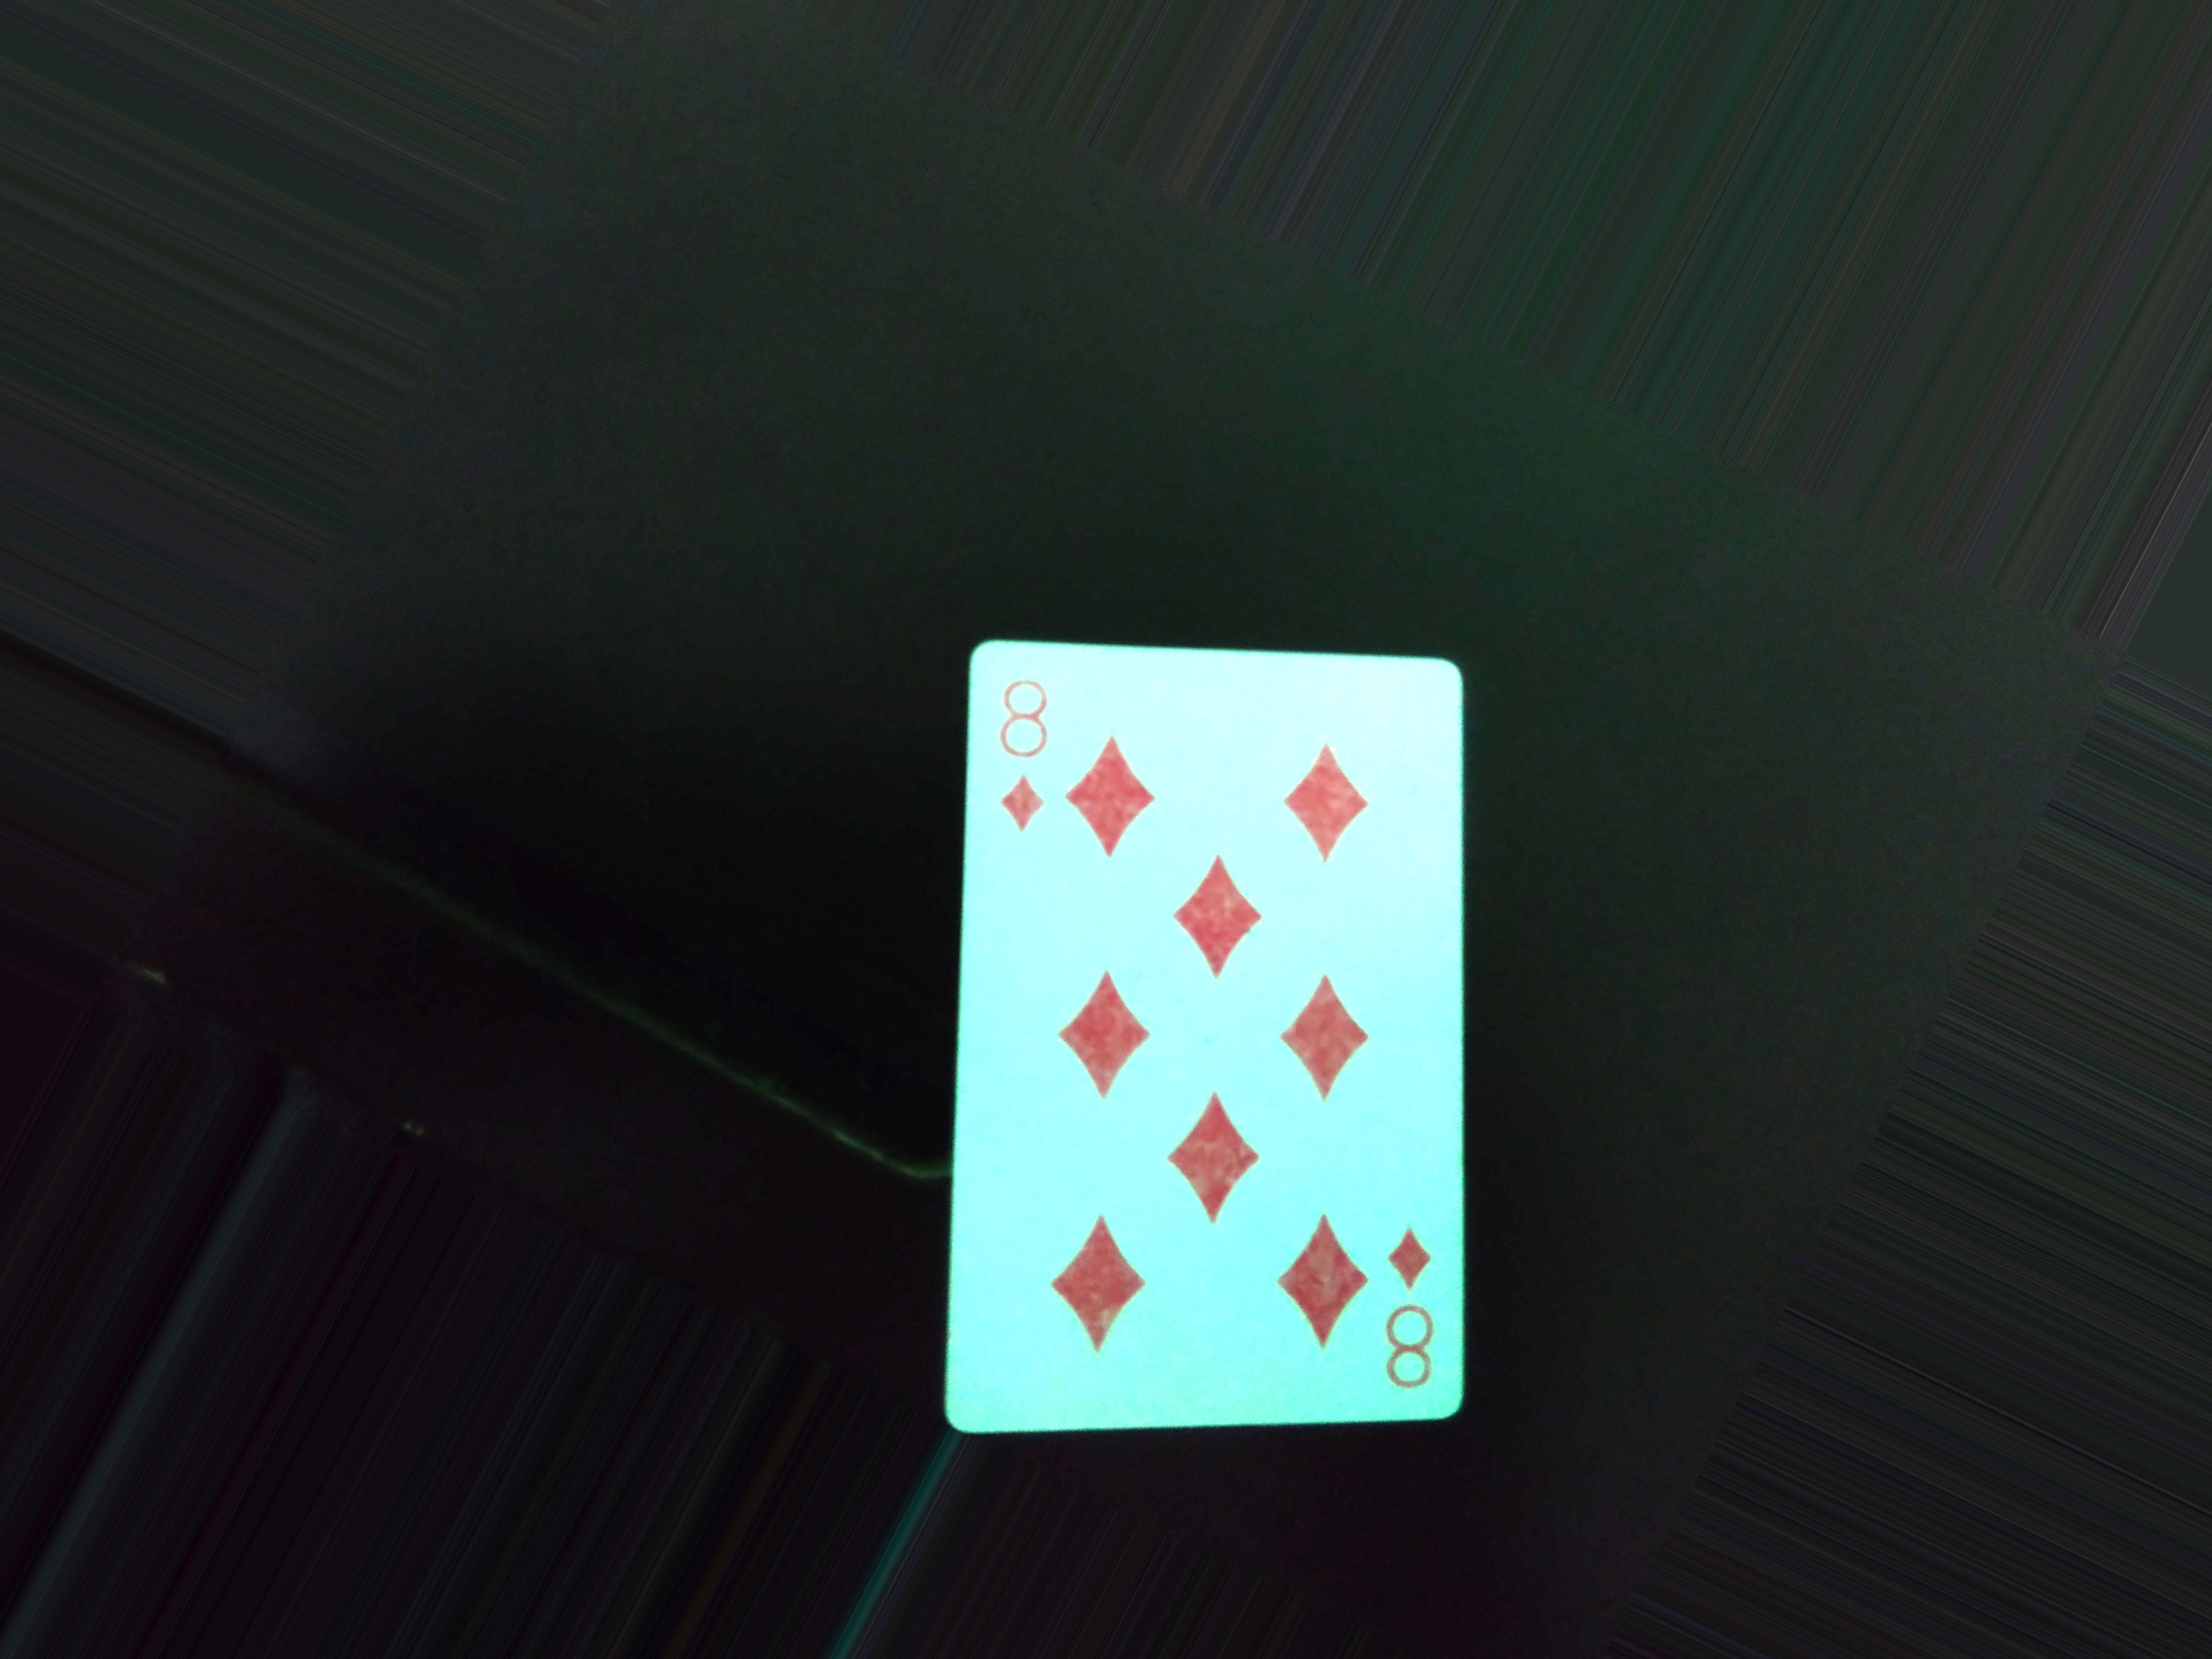8D: (1003, 645, 1047, 880)
